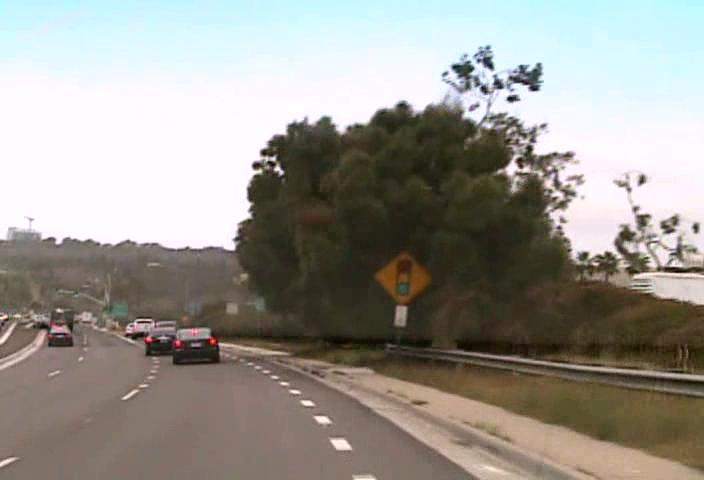signalAhead: (373, 248, 432, 305)
